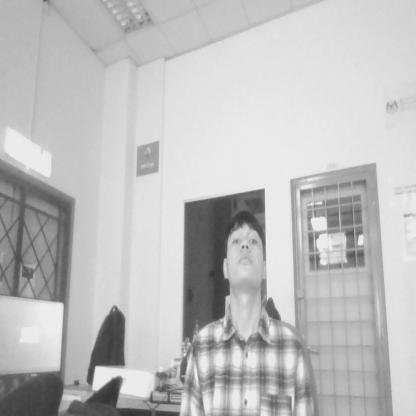Open-Eyes: (230, 230, 260, 250)
